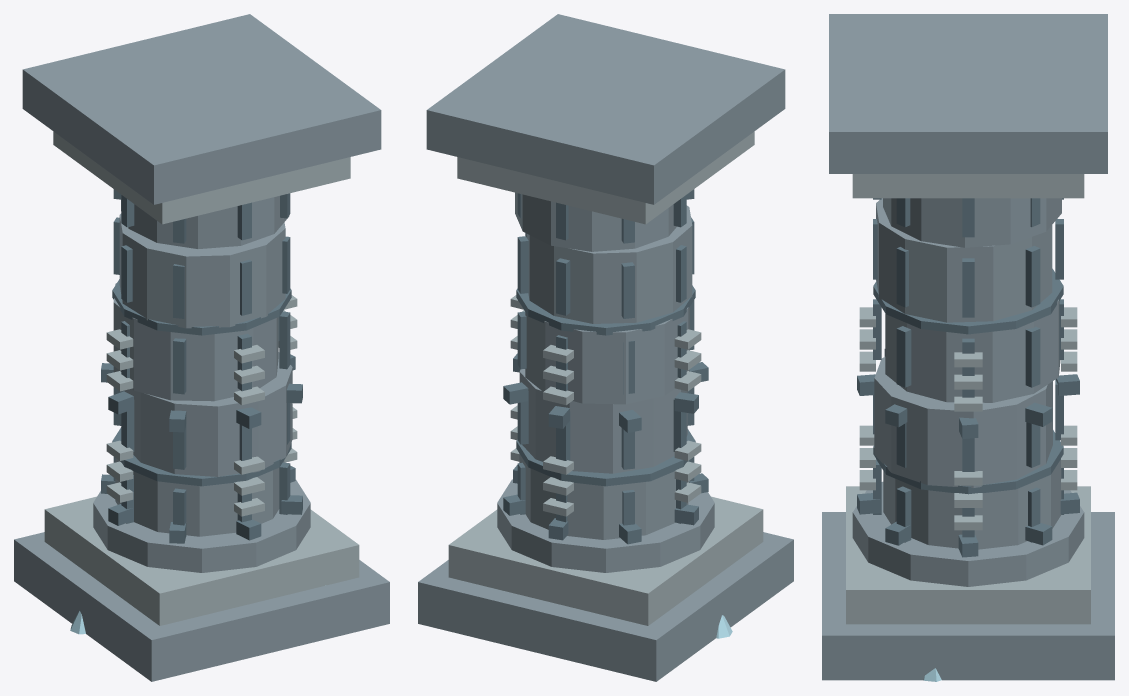
Rendered from b2-ancient-pillar-v3.glb.
The picture shows the model from 3 angles, left to right: view 1: azimuth 30°, elevation 25°; view 2: azimuth 150°, elevation 25°; view 3: azimuth 270°, elevation 25°; orthographic projection. The views are drawn at different scales.
Visible parts, largest first — view 1: capital sculpted crown, stone plinth, lower carved base, individual irregular stone drum.003, individual irregular stone drum.001, individual irregular stone drum.002, lower torus stone, capital lower, individual irregular stone drum, individual irregular stone drum.004, thin stone seam.001, thin stone seam (+5 smaller); view 2: capital sculpted crown, stone plinth, lower carved base, individual irregular stone drum.003, individual irregular stone drum.002, individual irregular stone drum.001, lower torus stone, individual irregular stone drum, capital lower, individual irregular stone drum.004, thin stone seam, thin stone seam.001 (+4 smaller); view 3: capital sculpted crown, stone plinth, lower carved base, individual irregular stone drum.001, individual irregular stone drum.003, individual irregular stone drum.002, lower torus stone, individual irregular stone drum, individual irregular stone drum.004, capital lower, thin stone seam.001, thin stone seam (+20 smaller).
Part boxes in pixels (bbox=[...]): capital sculpted crown: bbox=[22, 14, 381, 204]; stone plinth: bbox=[14, 532, 389, 681]; lower carved base: bbox=[44, 496, 359, 625]; individual irregular stone drum.003: bbox=[119, 213, 285, 328]; individual irregular stone drum.001: bbox=[124, 352, 292, 476]; individual irregular stone drum.002: bbox=[113, 283, 278, 401]; lower torus stone: bbox=[93, 480, 310, 572]; capital lower: bbox=[53, 131, 350, 224]; individual irregular stone drum: bbox=[115, 458, 284, 536]; individual irregular stone drum.004: bbox=[121, 194, 289, 248]; thin stone seam.001: bbox=[112, 279, 291, 335]; thin stone seam: bbox=[112, 427, 291, 486]; capital sculpted crown: bbox=[426, 14, 785, 204]; stone plinth: bbox=[418, 532, 793, 681]; lower carved base: bbox=[448, 496, 763, 625]; individual irregular stone drum.003: bbox=[526, 205, 692, 323]; individual irregular stone drum.002: bbox=[525, 307, 689, 404]; individual irregular stone drum.001: bbox=[519, 369, 687, 473]; lower torus stone: bbox=[497, 479, 714, 572]; individual irregular stone drum: bbox=[519, 453, 688, 539]; capital lower: bbox=[457, 131, 754, 224]; individual irregular stone drum.004: bbox=[515, 192, 676, 251]; thin stone seam: bbox=[516, 429, 695, 486]; thin stone seam.001: bbox=[516, 285, 695, 335]; capital sculpted crown: bbox=[829, 14, 1107, 173]; stone plinth: bbox=[822, 512, 1114, 680]; lower carved base: bbox=[846, 486, 1090, 624]; individual irregular stone drum.001: bbox=[874, 357, 1052, 487]; individual irregular stone drum.003: bbox=[876, 198, 1052, 322]; individual irregular stone drum.002: bbox=[885, 299, 1060, 402]; lower torus stone: bbox=[852, 481, 1084, 586]; individual irregular stone drum: bbox=[883, 459, 1061, 549]; individual irregular stone drum.004: bbox=[883, 198, 1061, 247]; capital lower: bbox=[852, 174, 1084, 198]; thin stone seam.001: bbox=[873, 268, 1063, 334]; thin stone seam: bbox=[873, 430, 1063, 494].
Size of the model in its own units: 2.26 by 4.42 by 2.15.
